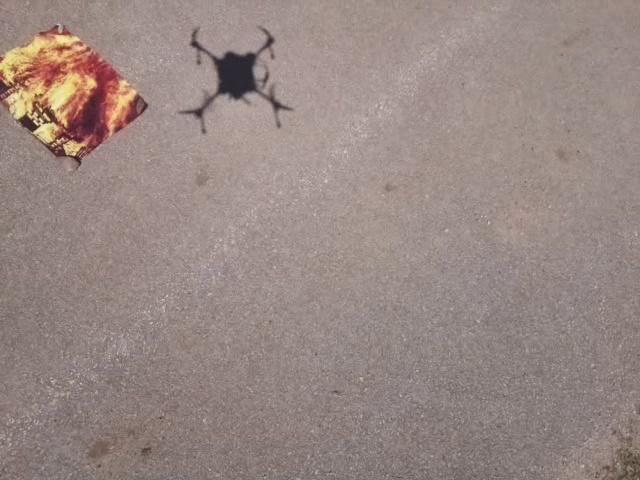fire-poster: (0, 21, 149, 173)
